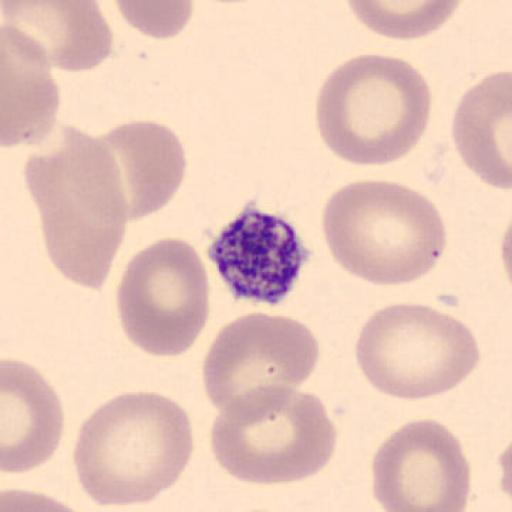Platelet: (206, 206, 312, 307)
RBC: (24, 122, 128, 290), (72, 389, 195, 508), (320, 178, 448, 288), (208, 380, 340, 486), (314, 52, 433, 167), (202, 310, 321, 419), (354, 301, 481, 403), (115, 236, 211, 359), (94, 117, 188, 223), (370, 417, 472, 511), (2, 0, 114, 73), (449, 69, 512, 192), (1, 22, 60, 150), (2, 358, 66, 474), (344, 0, 464, 41), (113, 0, 196, 41), (2, 488, 92, 512), (498, 434, 512, 504), (499, 219, 512, 294)
